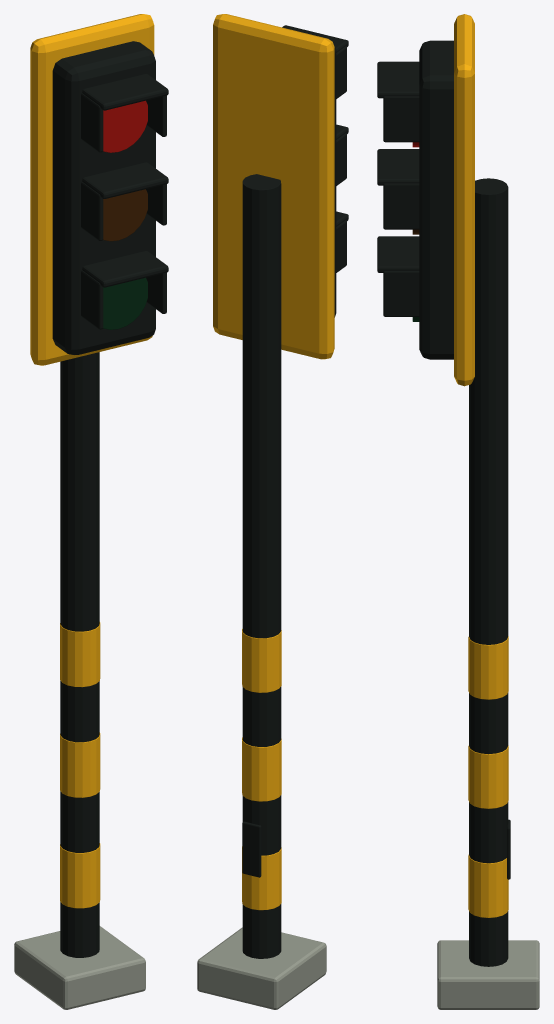
File: edited.glb
3 renders of one model, left to right at view 1: azimuth 30°, elevation 25°; view 2: azimuth 150°, elevation 25°; view 3: azimuth 270°, elevation 25°, orthographic.
Parts seen in each view (by area): view 1: POLE_Main, VEHICLE_Housing, VEHICLE_Backplate, BASE_Footing, POLE_YellowBand, POLE_YellowBand.001, POLE_YellowBand.002, VEHICLE_VisorTop.001, VEHICLE_VisorTop, VEHICLE_VisorTop.002, VEHICLE_Lens_0, VEHICLE_Lens_2 (+7 smaller); view 2: VEHICLE_Backplate, POLE_Main, BASE_Footing, POLE_YellowBand.001, POLE_YellowBand.002, POLE_YellowBand, MAINTENANCE_Door, VEHICLE_Housing, VEHICLE_VisorSide, VEHICLE_VisorSide.002, VEHICLE_VisorSide.004; view 3: POLE_Main, VEHICLE_Housing, VEHICLE_Backplate, BASE_Footing, POLE_YellowBand.002, POLE_YellowBand.001, POLE_YellowBand, VEHICLE_VisorSide.003, VEHICLE_VisorSide.001, VEHICLE_VisorSide.005, VEHICLE_VisorTop, VEHICLE_VisorTop.001 (+1 smaller).
Part boxes in pixels (left/top/right/bottom): POLE_Main: left=60, top=352, right=99, bottom=957; VEHICLE_Housing: left=52, top=41, right=155, bottom=354; VEHICLE_Backplate: left=30, top=14, right=154, bottom=365; BASE_Footing: left=14, top=926, right=145, bottom=1009; POLE_YellowBand: left=60, top=843, right=100, bottom=908; POLE_YellowBand.001: left=60, top=732, right=100, bottom=797; POLE_YellowBand.002: left=60, top=622, right=100, bottom=687; VEHICLE_VisorTop.001: left=82, top=162, right=168, bottom=198; VEHICLE_VisorTop: left=82, top=74, right=168, bottom=110; VEHICLE_VisorTop.002: left=82, top=251, right=168, bottom=287; VEHICLE_Lens_0: left=103, top=100, right=147, bottom=152; VEHICLE_Lens_2: left=103, top=277, right=147, bottom=329; VEHICLE_Backplate: left=213, top=14, right=334, bottom=359; POLE_Main: left=242, top=174, right=281, bottom=958; BASE_Footing: left=197, top=927, right=326, bottom=1009; POLE_YellowBand.001: left=242, top=737, right=281, bottom=801; POLE_YellowBand.002: left=242, top=629, right=281, bottom=692; POLE_YellowBand: left=242, top=846, right=281, bottom=910; MAINTENANCE_Door: left=242, top=821, right=261, bottom=877; VEHICLE_Housing: left=333, top=44, right=336, bottom=317; VEHICLE_VisorSide: left=336, top=46, right=346, bottom=98; VEHICLE_VisorSide.002: left=336, top=133, right=346, bottom=185; VEHICLE_VisorSide.004: left=336, top=220, right=346, bottom=272; POLE_Main: left=469, top=178, right=508, bottom=966; VEHICLE_Housing: left=419, top=40, right=453, bottom=359; VEHICLE_Backplate: left=454, top=14, right=474, bottom=386; BASE_Footing: left=437, top=940, right=539, bottom=1009; POLE_YellowBand.002: left=468, top=636, right=508, bottom=699; POLE_YellowBand.001: left=468, top=745, right=508, bottom=808; POLE_YellowBand: left=468, top=854, right=508, bottom=917; VEHICLE_VisorSide.003: left=383, top=183, right=419, bottom=229; VEHICLE_VisorSide.001: left=383, top=96, right=419, bottom=142; VEHICLE_VisorSide.005: left=383, top=271, right=419, bottom=316; VEHICLE_VisorTop: left=377, top=61, right=419, bottom=98; VEHICLE_VisorTop.001: left=377, top=149, right=419, bottom=185.
Size of the model in its own units: 0.46 by 3.49 by 0.54.
